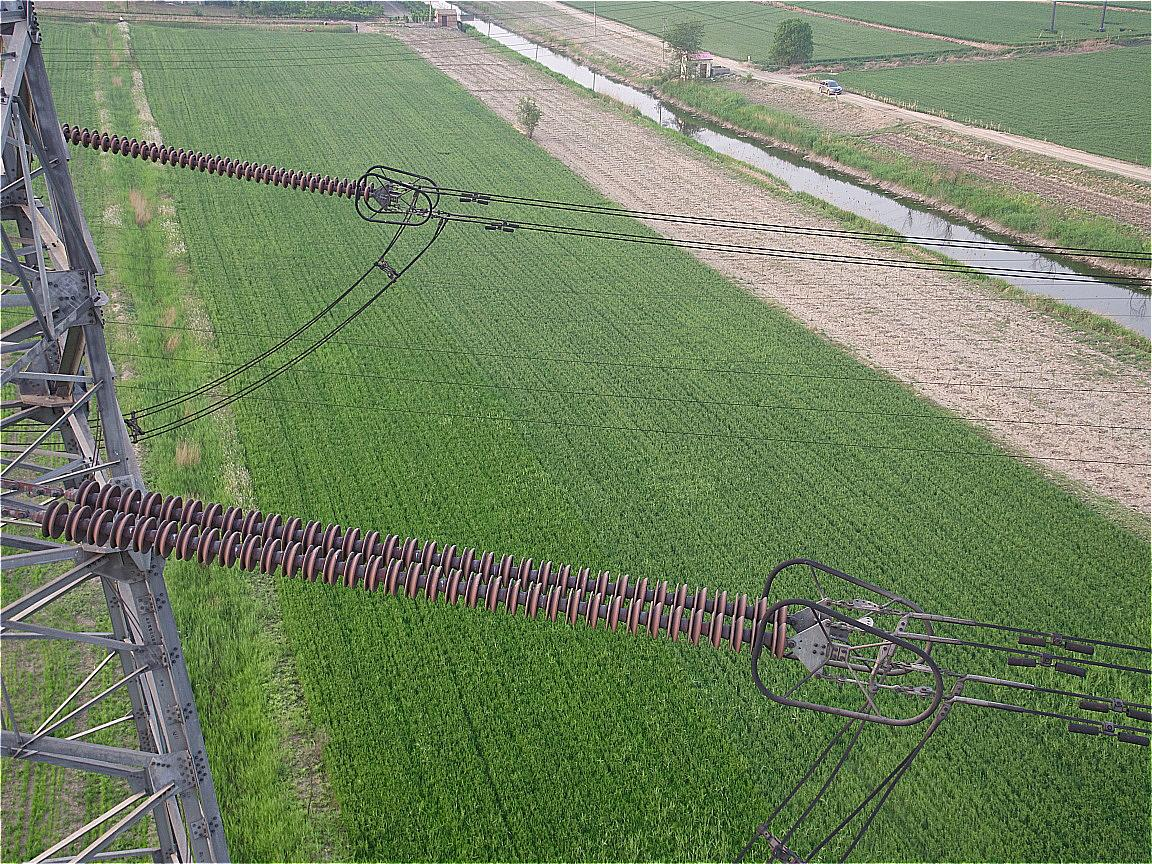insultor1: (64, 122, 377, 206)
insultor2: (40, 479, 789, 659)
